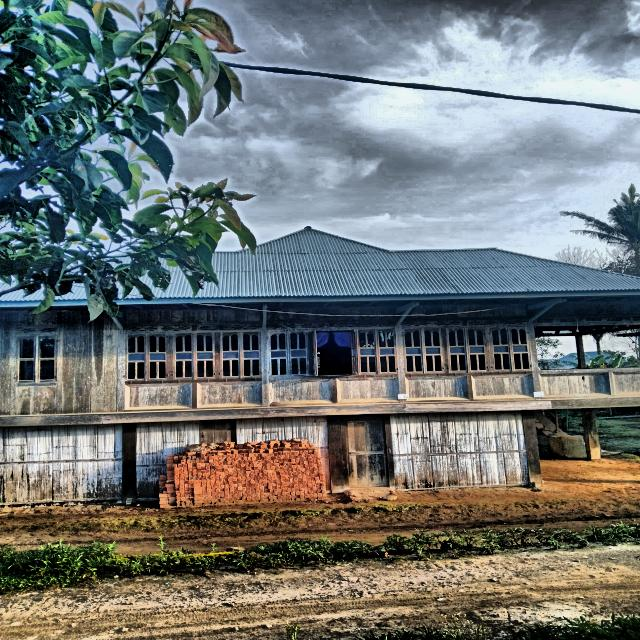column: (522, 410, 543, 486), (326, 415, 345, 493), (122, 423, 136, 504), (580, 408, 601, 459)
door: (345, 419, 390, 488)
ornamen: (125, 383, 192, 410), (539, 373, 611, 398), (269, 378, 333, 406), (197, 381, 263, 408), (337, 377, 400, 403), (405, 376, 470, 401), (471, 374, 534, 399), (613, 371, 640, 395)
roof: (196, 227, 640, 301)
stair: (534, 409, 569, 438)
wall: (135, 416, 331, 502), (125, 308, 263, 412), (0, 309, 125, 417), (267, 306, 400, 406), (401, 305, 535, 401), (390, 410, 530, 490), (0, 423, 122, 508)
window: (308, 329, 359, 375), (125, 334, 169, 381), (446, 327, 490, 373), (15, 336, 58, 383), (489, 326, 532, 372), (220, 332, 262, 379), (173, 333, 215, 380), (402, 328, 444, 374), (268, 332, 309, 377), (358, 329, 398, 375)
